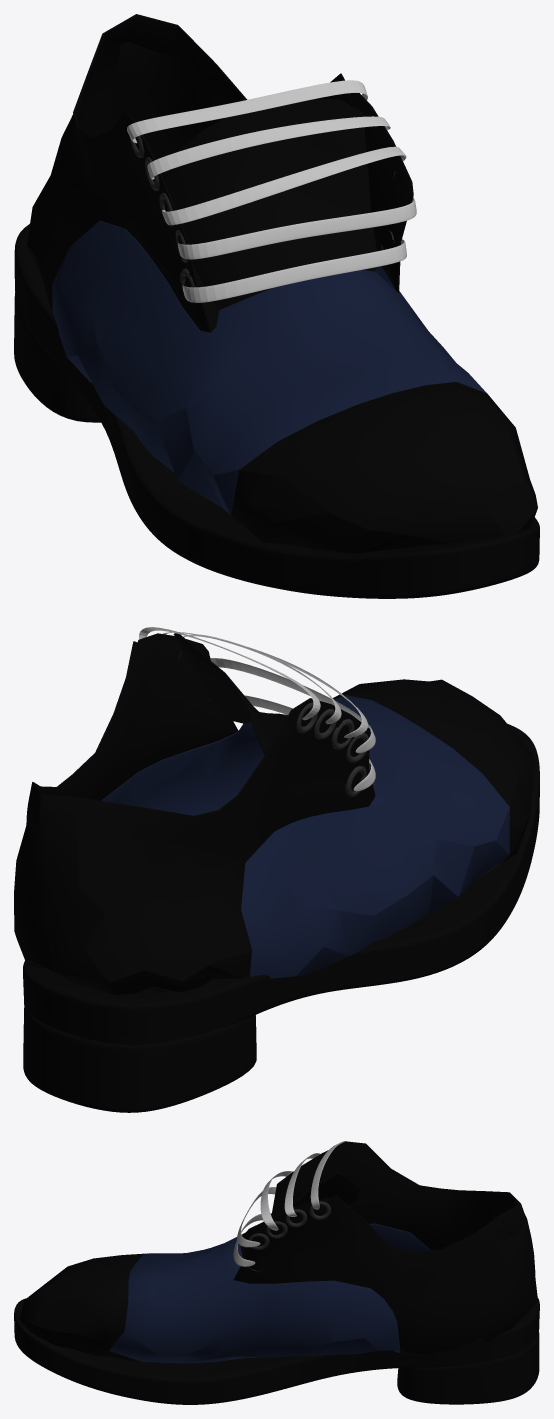
The model's file is za1in3derecha.fbx.
The picture shows the model from 3 angles, top to bottom: view 1: azimuth 30°, elevation 25°; view 2: azimuth 150°, elevation 25°; view 3: azimuth 270°, elevation 25°; orthographic projection. The views are drawn at different scales.
Parts seen in each view (by area): view 1: ZAPATO1_3, Plane, Plane.002, Plane.005, Plane.001, Plane.004, Plane.003; view 2: ZAPATO1_3, Plane, Plane.002, Plane.004, Plane.005, Plane.001; view 3: ZAPATO1_3, Plane, Plane.001, Plane.004, Plane.003, Plane.002, Plane.005.
Boxes of the visible parts, left/top/right/bottom form: ZAPATO1_3: left=27, top=14, right=537, bottom=553; Plane: left=14, top=224, right=539, bottom=598; Plane.002: left=178, top=197, right=416, bottom=259; Plane.005: left=182, top=239, right=406, bottom=302; Plane.001: left=162, top=146, right=406, bottom=224; Plane.004: left=127, top=80, right=367, bottom=143; Plane.003: left=147, top=116, right=390, bottom=179; ZAPATO1_3: left=14, top=633, right=534, bottom=995; Plane: left=23, top=724, right=539, bottom=1112; Plane.002: left=210, top=658, right=375, bottom=753; Plane.004: left=139, top=627, right=320, bottom=720; Plane.005: left=244, top=695, right=375, bottom=791; Plane.001: left=183, top=634, right=367, bottom=737; ZAPATO1_3: left=19, top=1141, right=537, bottom=1363; Plane: left=14, top=1298, right=539, bottom=1404; Plane.001: left=260, top=1171, right=293, bottom=1230; Plane.004: left=310, top=1141, right=347, bottom=1209; Plane.003: left=284, top=1153, right=320, bottom=1216; Plane.002: left=237, top=1187, right=276, bottom=1247; Plane.005: left=233, top=1213, right=271, bottom=1266.
Bounding box in the file's own units: 174 × 204 × 447.
